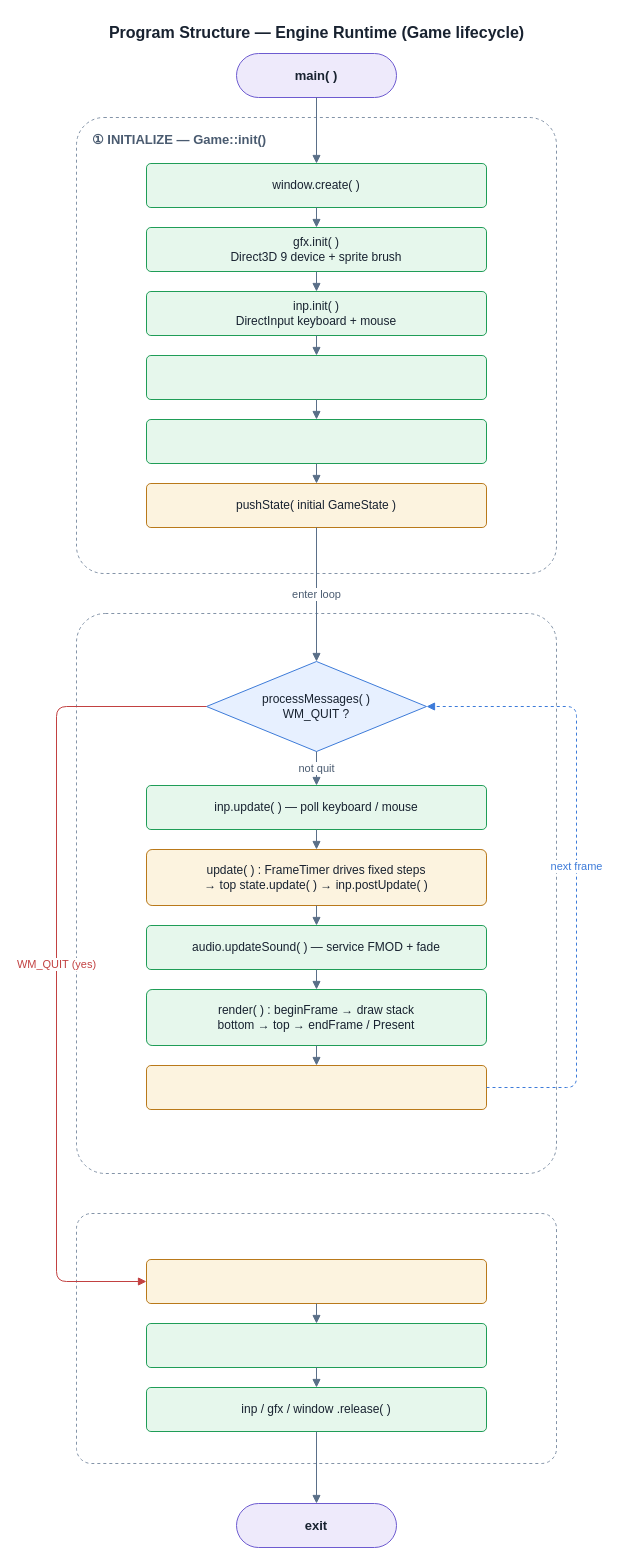
Some shapes in this 620 by 1565 pixel diagram are drawn without their labels. Here are the shapes that lost their labels. From the top down, the box of each, then its label:
(146, 354, 486, 400): new FrameTimer( 32 fps )
(146, 418, 486, 464): AudioManager — init FMOD + load sounds
(76, 612, 556, 1174): ② MAIN LOOP — Game::run() · once per frame
(146, 1064, 486, 1110): applyPending( ) — push / pop / clear states
(146, 1258, 486, 1304): delete all GameStates on the stack
(76, 1212, 556, 1464): ③ CLEANUP — Game::~Game()
(146, 1322, 486, 1368): delete AudioManager · delete FrameTimer
